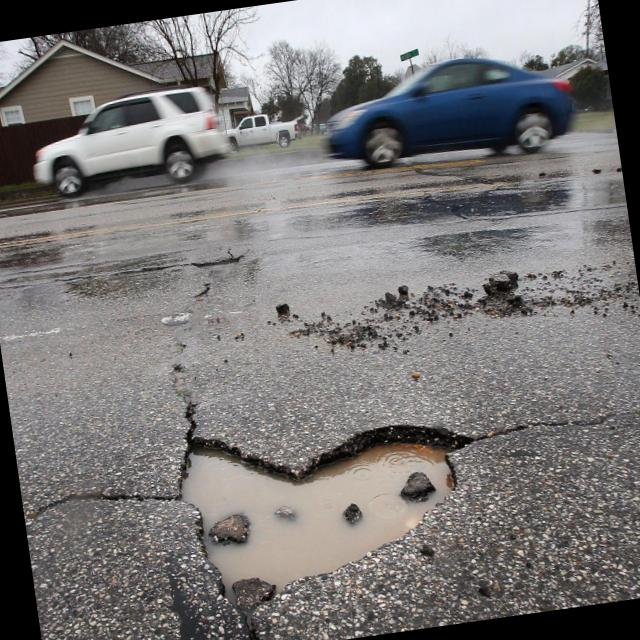Potholes: (153, 348, 520, 622)
